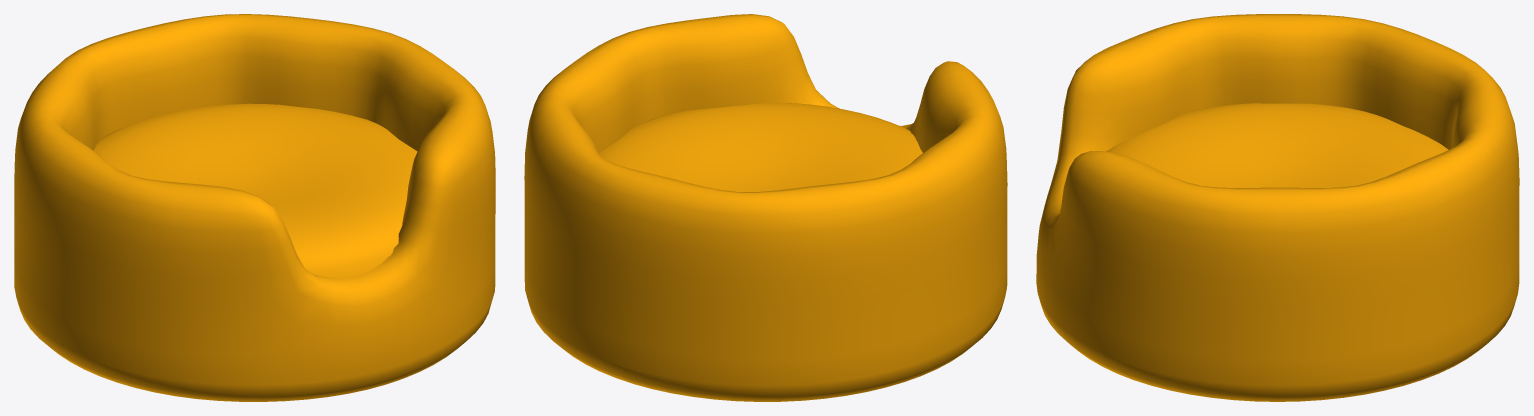
The model's file is Store_11_Animal_Bed_1.glb.
3 renders of one model, left to right at view 1: azimuth 30°, elevation 25°; view 2: azimuth 150°, elevation 25°; view 3: azimuth 270°, elevation 25°, orthographic.
Parts seen in each view (by area): view 1: Store_11_Animal_Bed_1; view 2: Store_11_Animal_Bed_1; view 3: Store_11_Animal_Bed_1.
Boxes of the visible parts, x1,y1,x2,y2 form: Store_11_Animal_Bed_1: (14, 14, 495, 401); Store_11_Animal_Bed_1: (524, 14, 1007, 401); Store_11_Animal_Bed_1: (1036, 14, 1519, 401).
Size of the model in its own units: 2.03 by 0.9545 by 2.03.
Materials: 1 (1 with a texture image).
